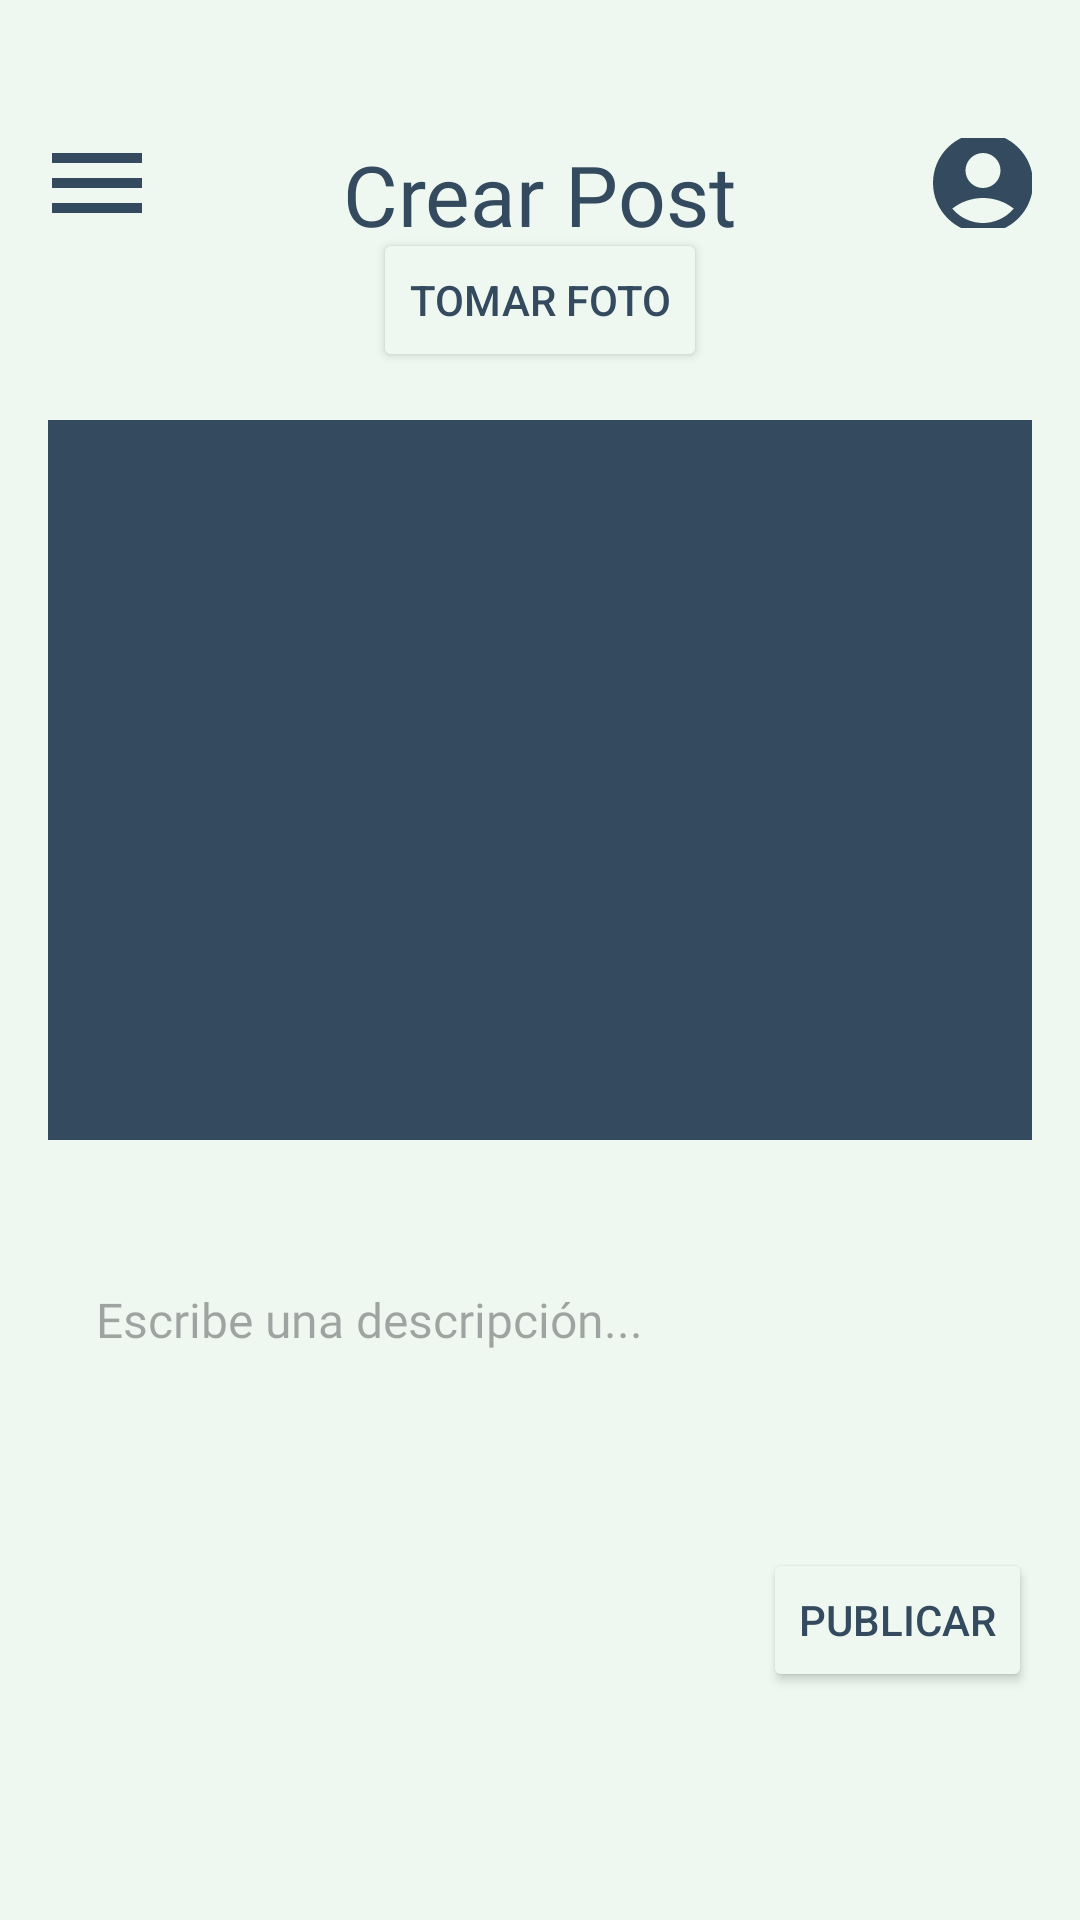

Named icons in this screenshot (1080 × 1920) and their bounding boxes, rect(x1, y1, x2, y2):
account circle: rect(933, 138, 1032, 228)
menu: rect(52, 153, 142, 213)
